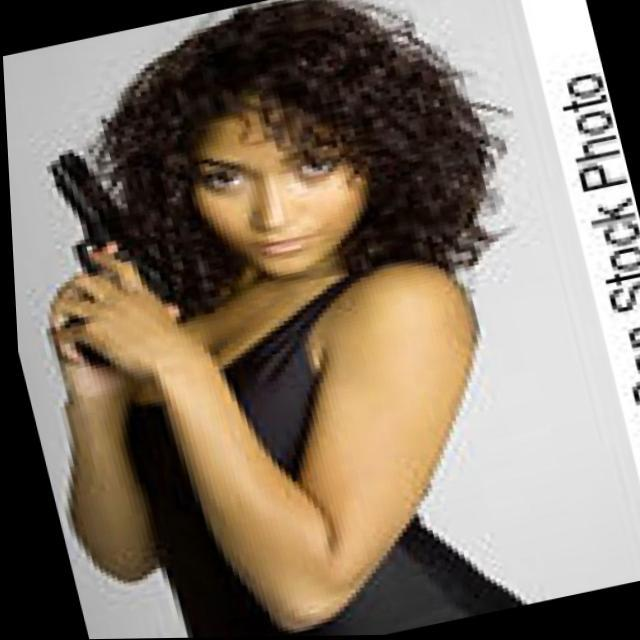weapon: (16, 134, 181, 375)
